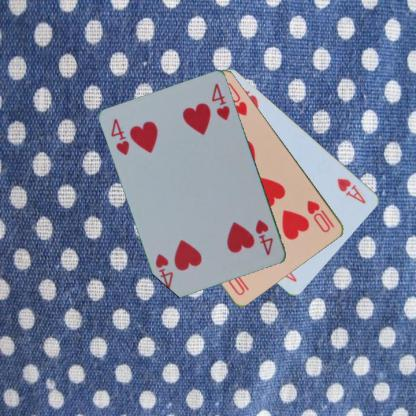10h: (305, 198, 332, 234)
4h: (109, 116, 131, 157), (253, 217, 275, 257)
Ah: (334, 176, 368, 205)
